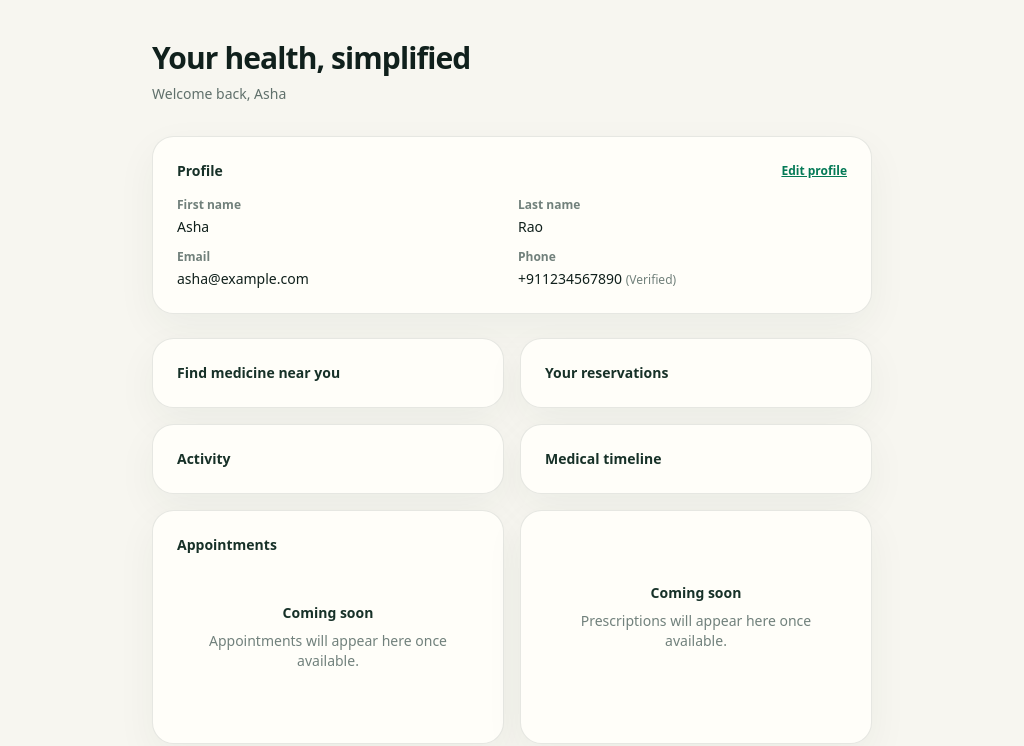
Scenario: PatientDashboard (candidate Task 0032) › shows a session-expired message (not a raw error) on a 401 from the update endpoint
What coordinates should you click on to do the following:
click the button "Edit profile"
I would click on:
 (814, 171)
Its box is [781,163,847,179].
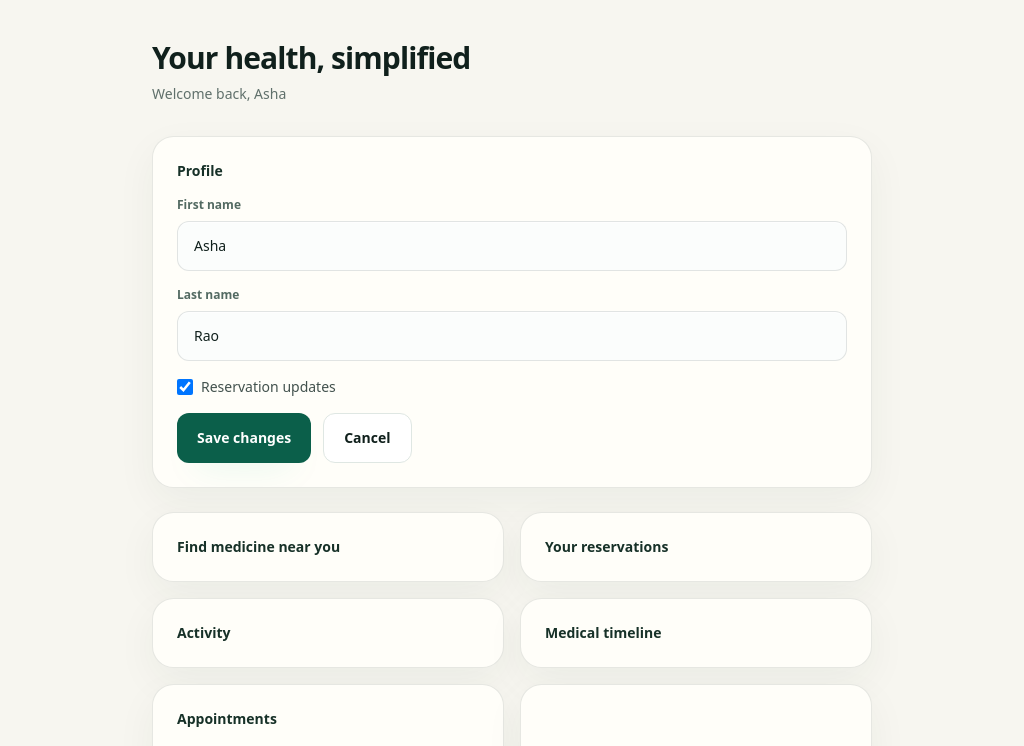
What coordinates should you click on to do the following:
click the button "Save changes"
I would click on:
 (244, 438)
Its box is [177,413,311,463].
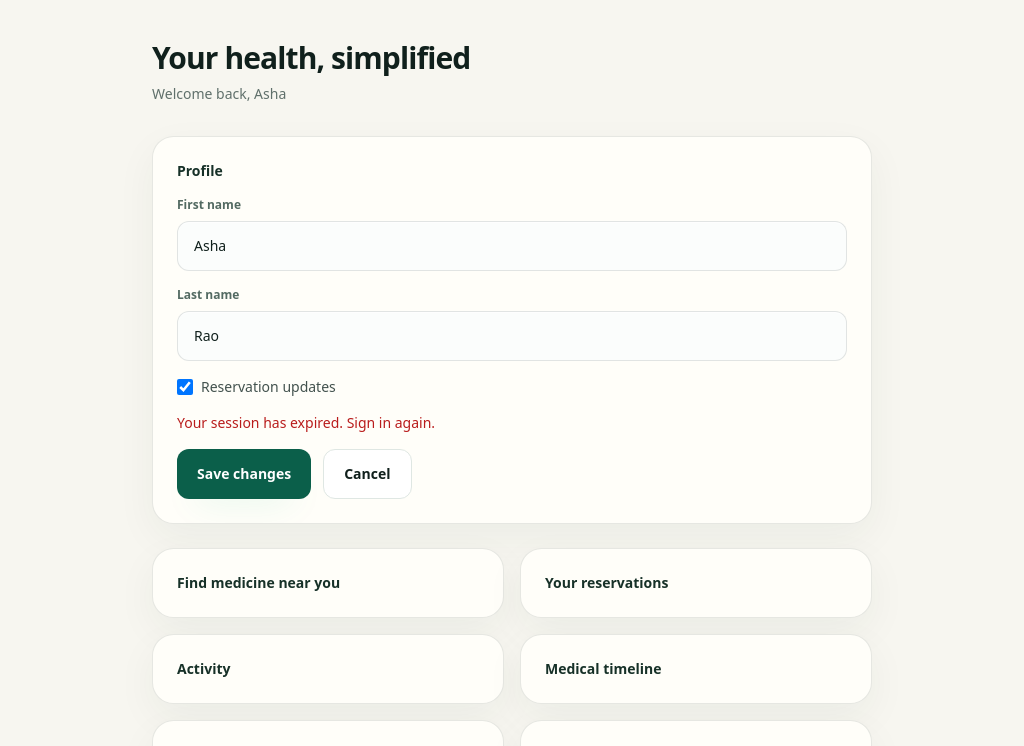
Expected: the message reads "Your session has expired. Sign in again.", [177,413,435,432]
